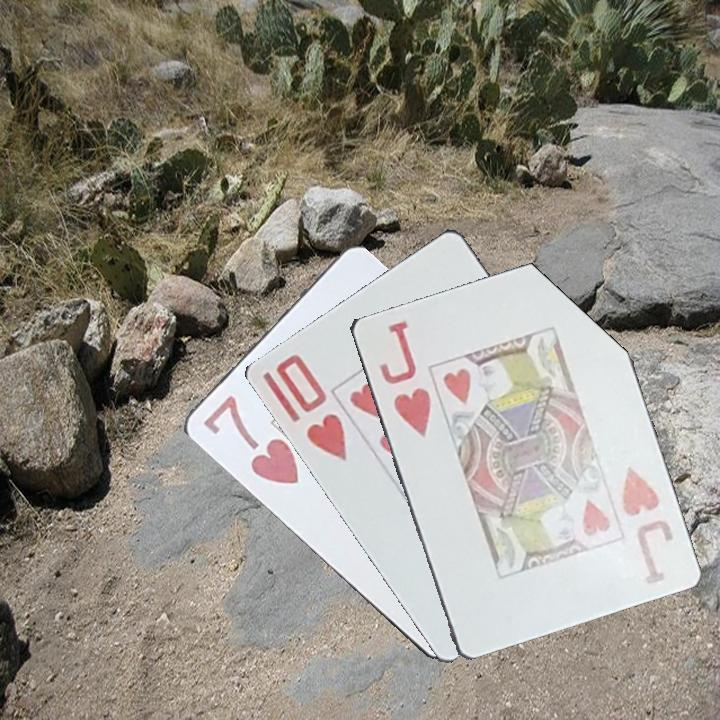7h: (199, 391, 301, 488)
Jh: (617, 462, 676, 587), (375, 316, 434, 440)
Th: (271, 350, 349, 465)
